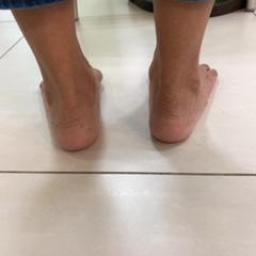Back View -Both Feet-: (22, 40, 228, 163)
